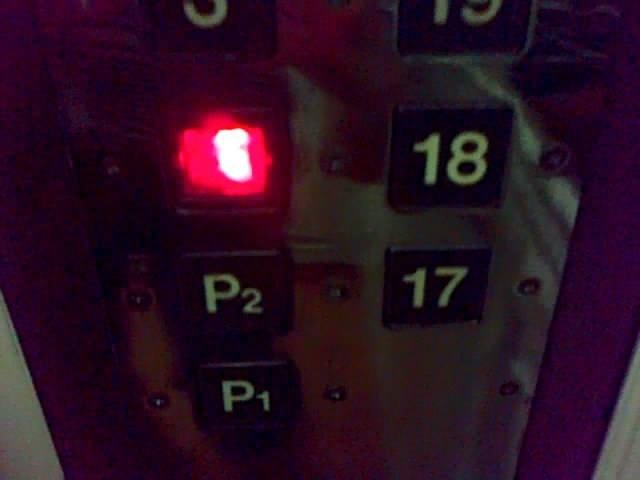17: (375, 245, 497, 332)
18: (381, 97, 515, 212)
P1: (187, 358, 303, 441)
P2: (175, 249, 298, 345)
